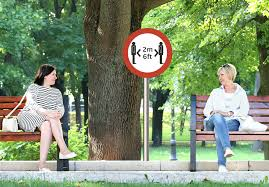Good: (18, 63, 251, 175)
